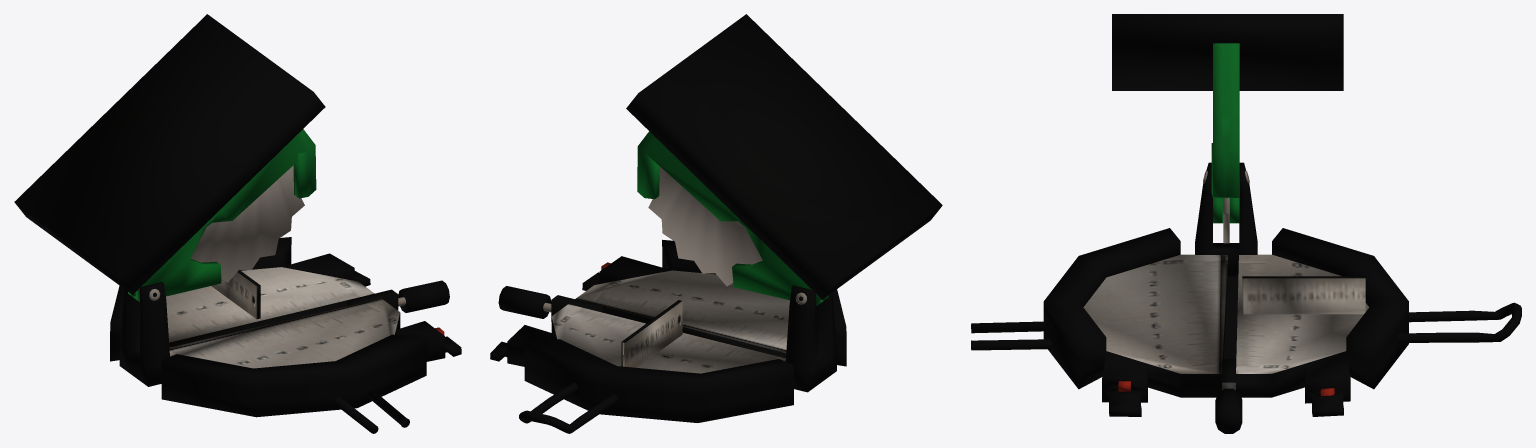
The model's file is kesici 2.fbx.
3 renders of one model, left to right at view 1: azimuth 30°, elevation 25°; view 2: azimuth 150°, elevation 25°; view 3: azimuth 270°, elevation 25°, orthographic. The views are drawn at different scales.
Parts seen in each view (by area): view 1: Icosphere.010; view 2: Icosphere.010; view 3: Icosphere.010.
Boxes of the visible parts, x1,y1,x2,y2 form: Icosphere.010: [14, 14, 461, 433]; Icosphere.010: [490, 14, 942, 433]; Icosphere.010: [971, 14, 1521, 433].
Bounding box in the file's own units: 320 × 242 × 372.
Materials: 1 (1 with a texture image).
